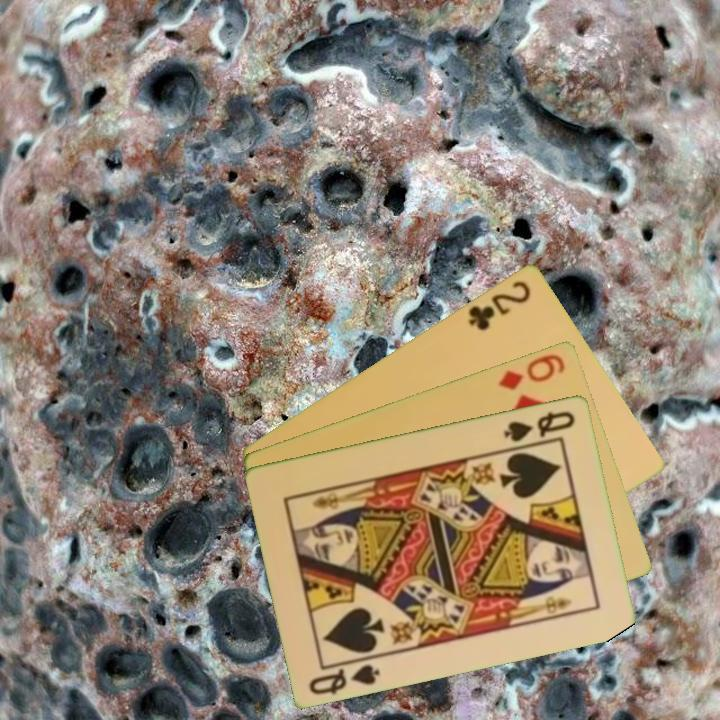2c: (464, 276, 534, 333)
6d: (494, 350, 568, 392)
Qs: (500, 407, 578, 445), (305, 660, 384, 697)
